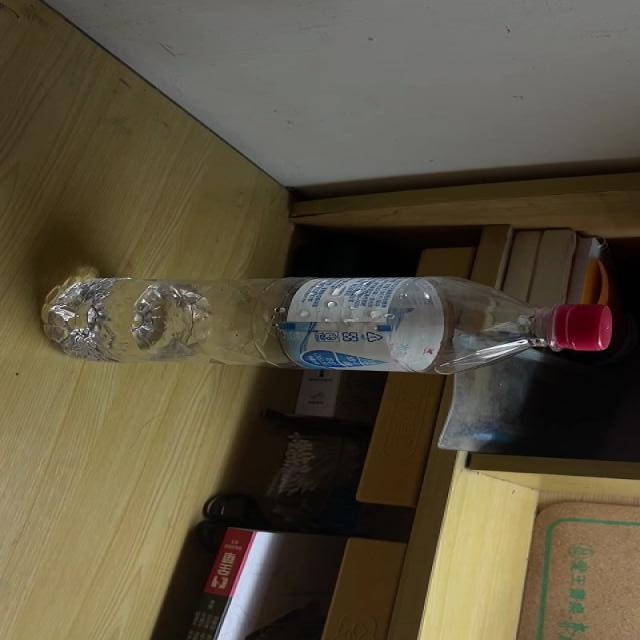Water: (37, 280, 615, 376)
